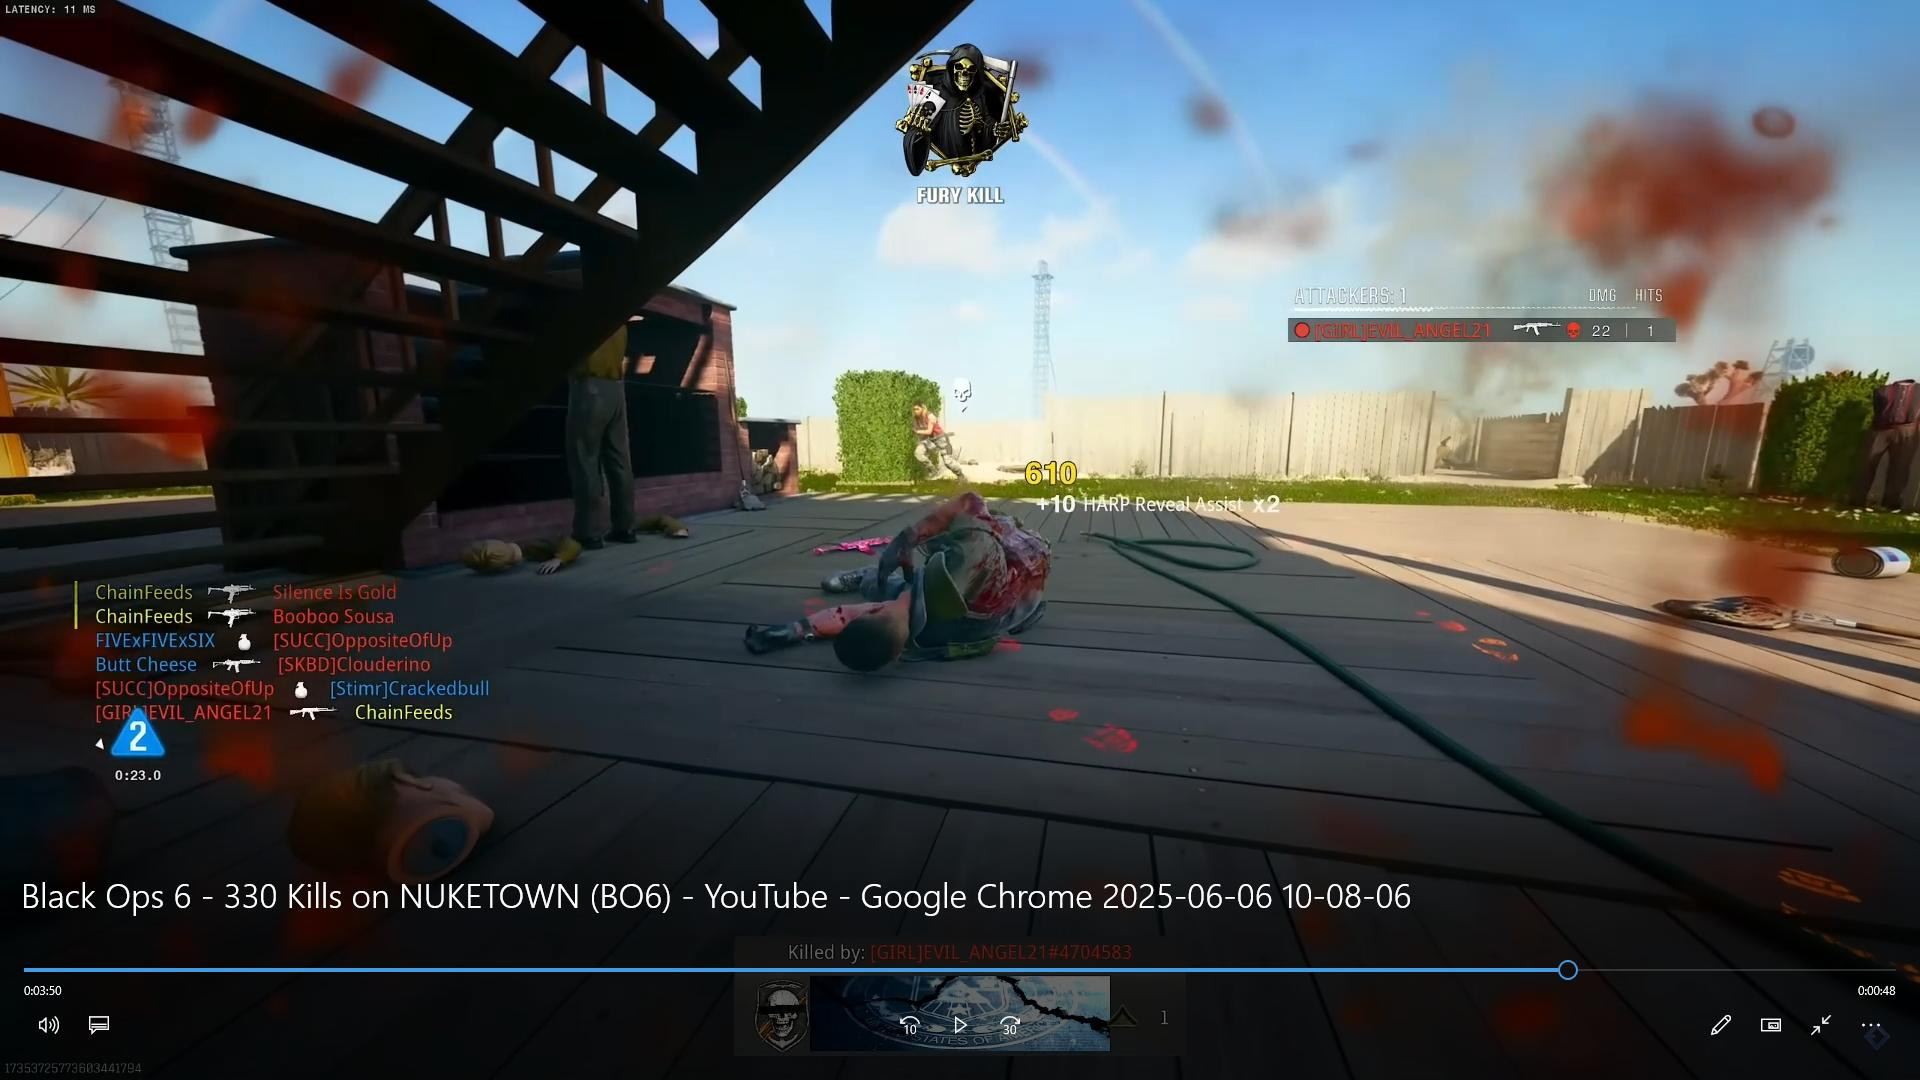Enemy: (887, 394, 980, 492)
